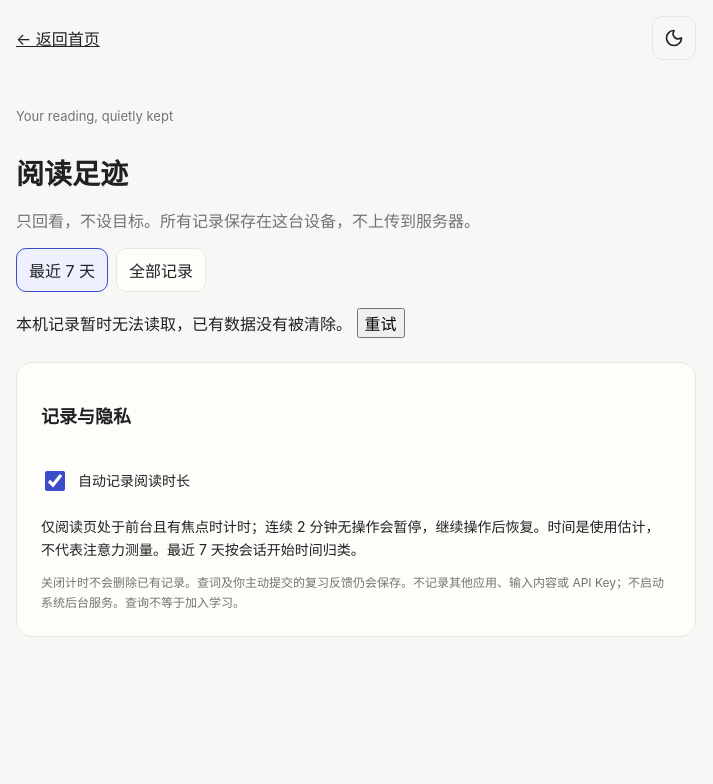
Test: candidate surfaces use real persisted learning data › shows an honest read failure with a working retry, summary=false
The width and height of the screenshot is (713, 784).
Expected: the link to "/" is shown, [16,26,100,50]
Click the button "重试" at (380, 323), box [356,308,404,338]
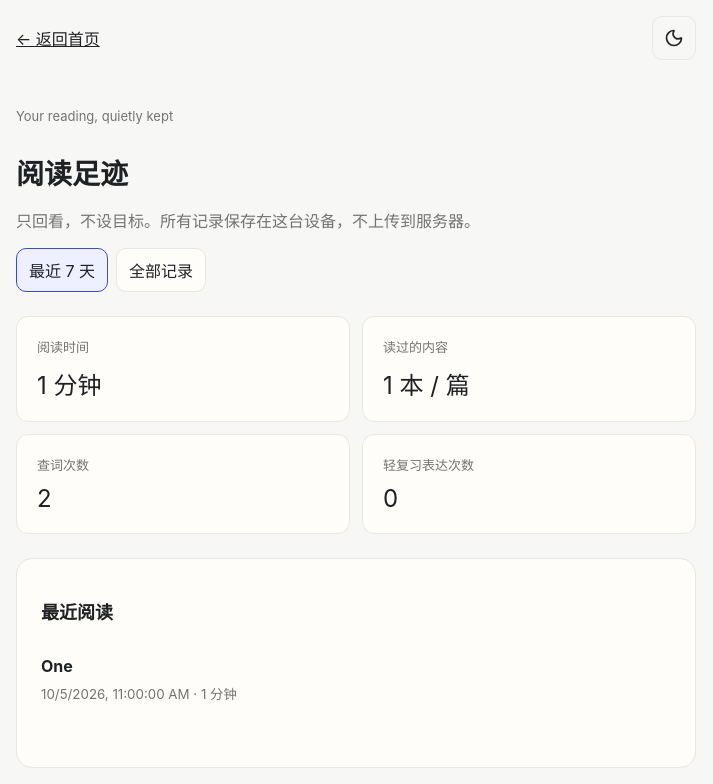
Expected: the text "暂时无法读取" is gone
